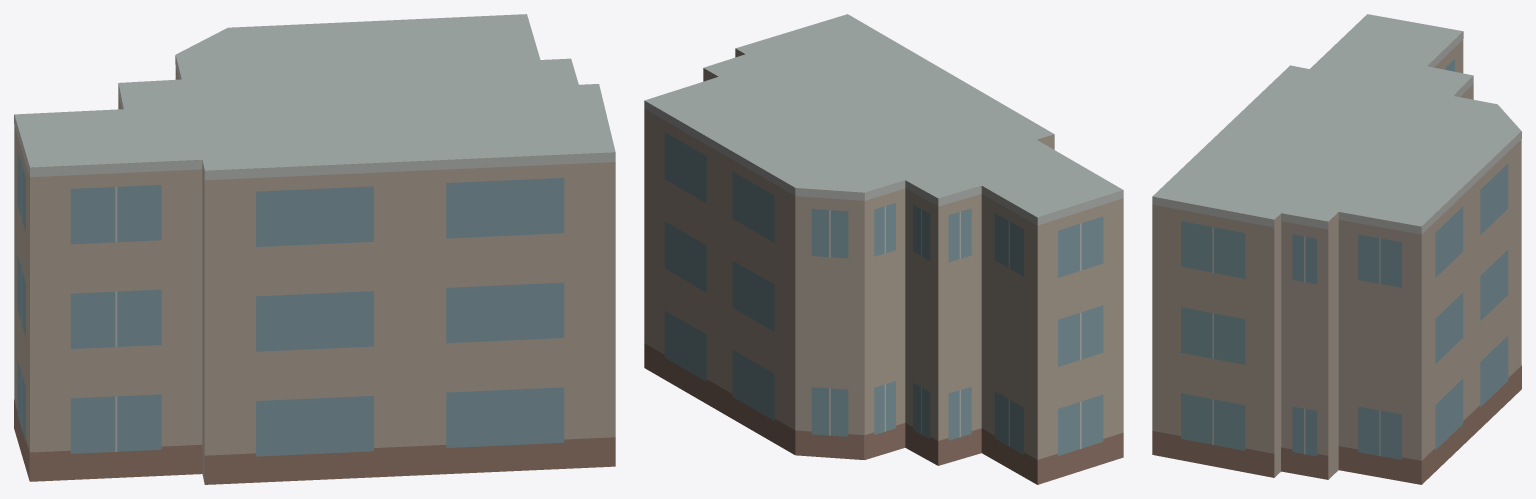
The model's file is survey-upis-32564957.glb.
3 views of the same model, side by side, from view 1: azimuth 30°, elevation 25°; view 2: azimuth 150°, elevation 25°; view 3: azimuth 270°, elevation 25° (orthographic). The views are drawn at different scales.
Parts seen in each view (by area): view 1: survey-upis-32564957.tmp; view 2: survey-upis-32564957.tmp; view 3: survey-upis-32564957.tmp.
Boxes of the visible parts, x1=… form: survey-upis-32564957.tmp: x1=14, y1=14, x2=615, y2=484; survey-upis-32564957.tmp: x1=644, y1=14, x2=1123, y2=484; survey-upis-32564957.tmp: x1=1152, y1=14, x2=1521, y2=484.
Bounding box in the file's own units: 14.05 × 7.95 × 10.32.
